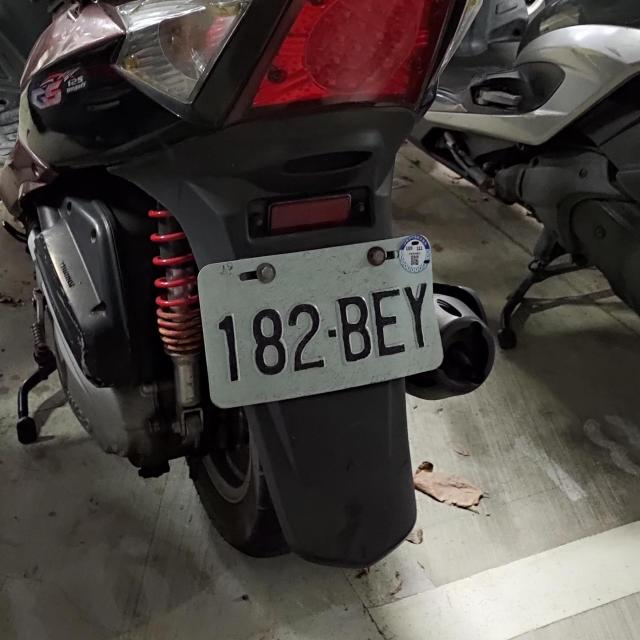W: (197, 236, 445, 406)
